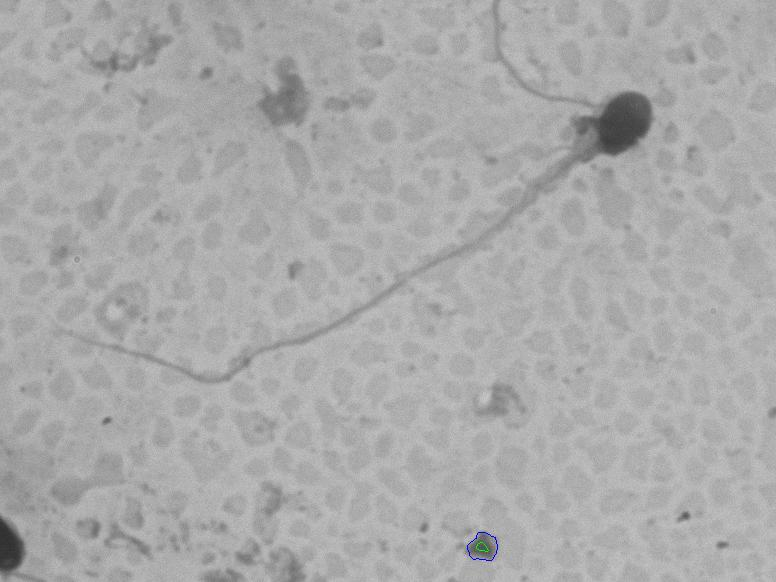Abnormal: (31, 73, 666, 400)
